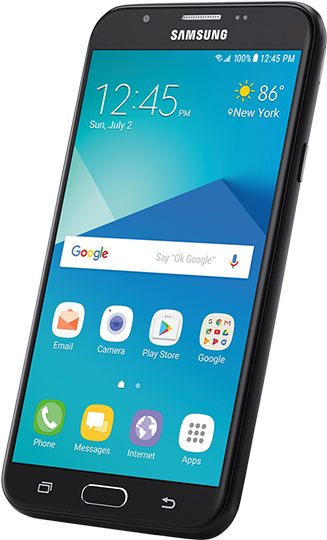phone: (1, 8, 321, 534)
